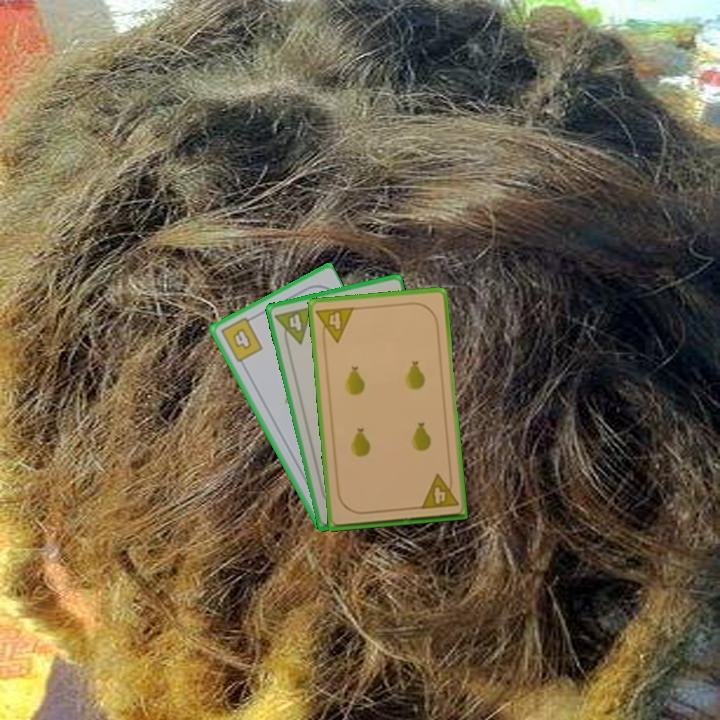4b: (217, 312, 266, 365)
4p: (271, 303, 315, 350), (313, 303, 357, 346), (417, 470, 461, 512)
